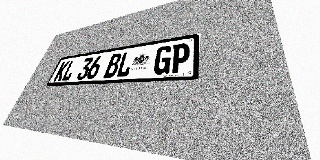3: (76, 57, 94, 80)
6: (85, 55, 104, 79)
B: (103, 53, 123, 78)
G: (152, 45, 173, 75)
K: (53, 61, 70, 81)
L: (115, 51, 135, 77), (61, 59, 78, 81)
P: (169, 42, 191, 74)
